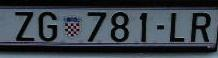-: (157, 25, 164, 31)
1: (139, 12, 149, 43)
7: (86, 11, 107, 42)
8: (111, 12, 129, 43)
G: (39, 11, 58, 41)
L: (169, 12, 185, 42)
R: (190, 12, 211, 43)
Z: (14, 10, 35, 42)
